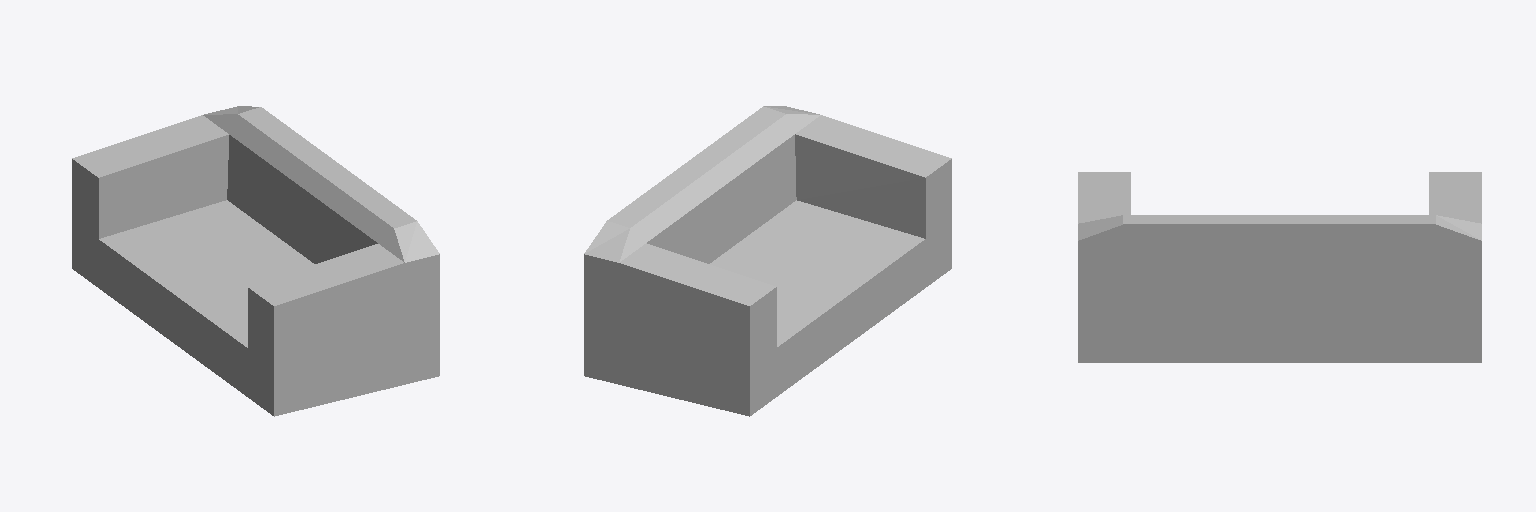
Rendered from sofa1.obj.
3 views of the same model, side by side, from view 1: azimuth 30°, elevation 25°; view 2: azimuth 150°, elevation 25°; view 3: azimuth 270°, elevation 25° (orthographic).
Visible parts, largest first — view 1: Cube; view 2: Cube; view 3: Cube.
Boxes of the visible parts, <box> form: Cube: <box>72,106,439,416</box>; Cube: <box>584,106,951,416</box>; Cube: <box>1078,172,1481,362</box>.
Size of the model in its own units: 3.93 by 3.26 by 8.29.